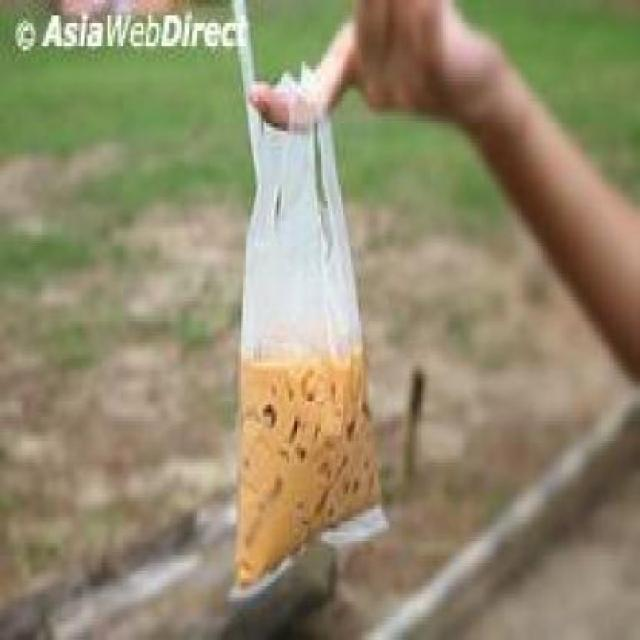plastic bag: (230, 59, 382, 598)
